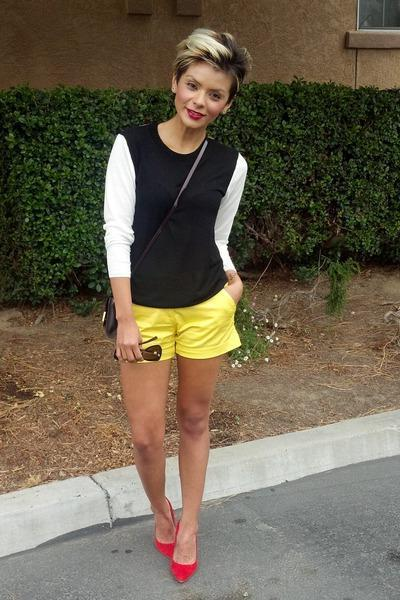Shorts: (104, 285, 241, 364)
long sleeve shirt: (97, 122, 248, 306)
vest: (116, 124, 242, 307)
